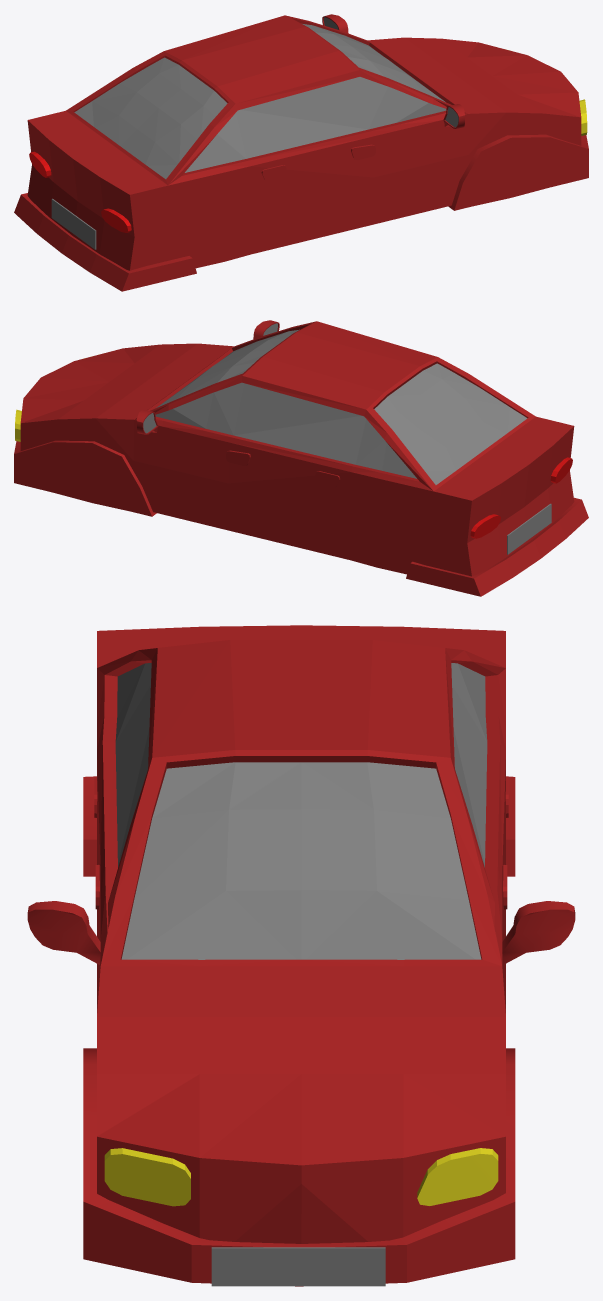
File: SM_car_base.fbx
The picture shows the model from 3 angles, top to bottom: view 1: azimuth 30°, elevation 25°; view 2: azimuth 150°, elevation 25°; view 3: azimuth 270°, elevation 25°; orthographic projection. The views are drawn at different scales.
Parts seen in each view (by area): view 1: Object113; view 2: Object113; view 3: Object113.
Part boxes in pixels (x1,y1,x2,y2): Object113: (14, 14, 588, 291); Object113: (14, 320, 588, 596); Object113: (27, 625, 575, 1286).
Bounding box in the file's own units: 171 × 81.02 × 50.32.
